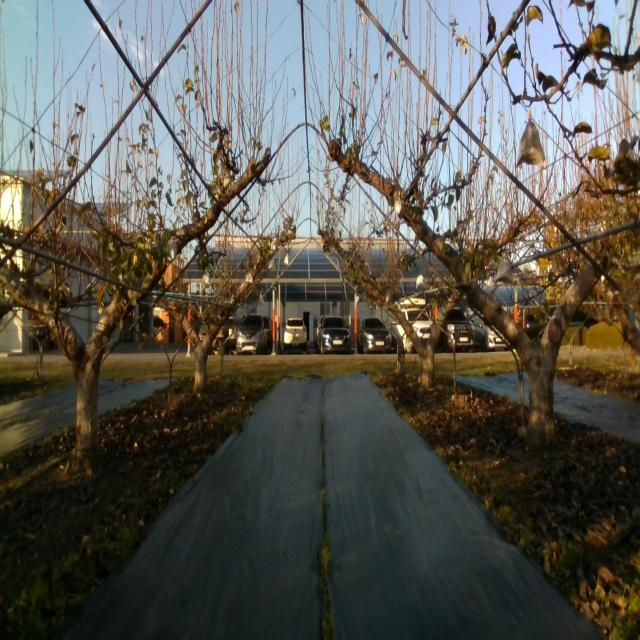pearbags: (516, 120, 546, 166), (494, 257, 514, 284)
